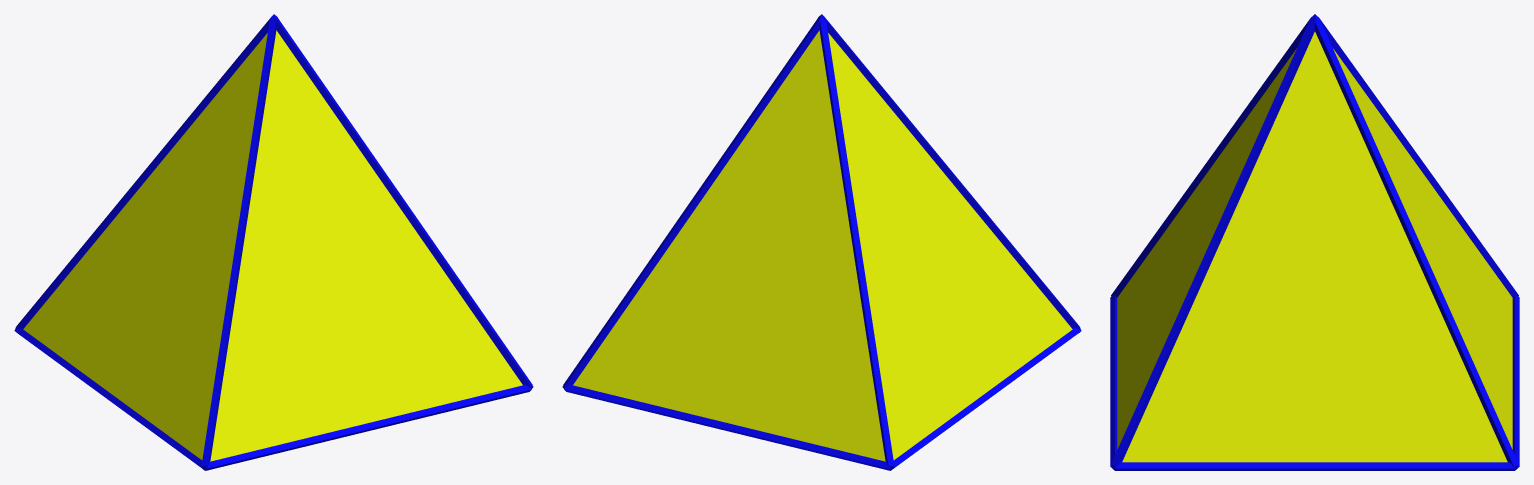
Rendered from piramide_caras.glb.
3 renders of one model, left to right at view 1: azimuth 30°, elevation 25°; view 2: azimuth 150°, elevation 25°; view 3: azimuth 270°, elevation 25°, orthographic. The views are drawn at different scales.
Visible parts, largest first — view 1: Pyramid003, Pyramid001; view 2: Pyramid003, Pyramid001; view 3: Pyramid003, Pyramid001.
Boxes of the visible parts, x1,y1,x2,y2 form: Pyramid003: (23,30,522,461); Pyramid001: (14,14,533,470); Pyramid003: (573,30,1072,461); Pyramid001: (562,14,1081,470); Pyramid003: (1117,32,1512,462); Pyramid001: (1110,14,1519,470).
Bounding box in the file's own units: 0.6502 × 0.6527 × 0.6502.
